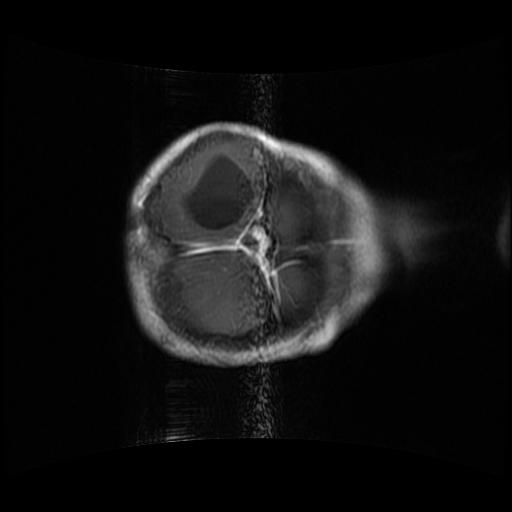glioma: (179, 150, 256, 233)
